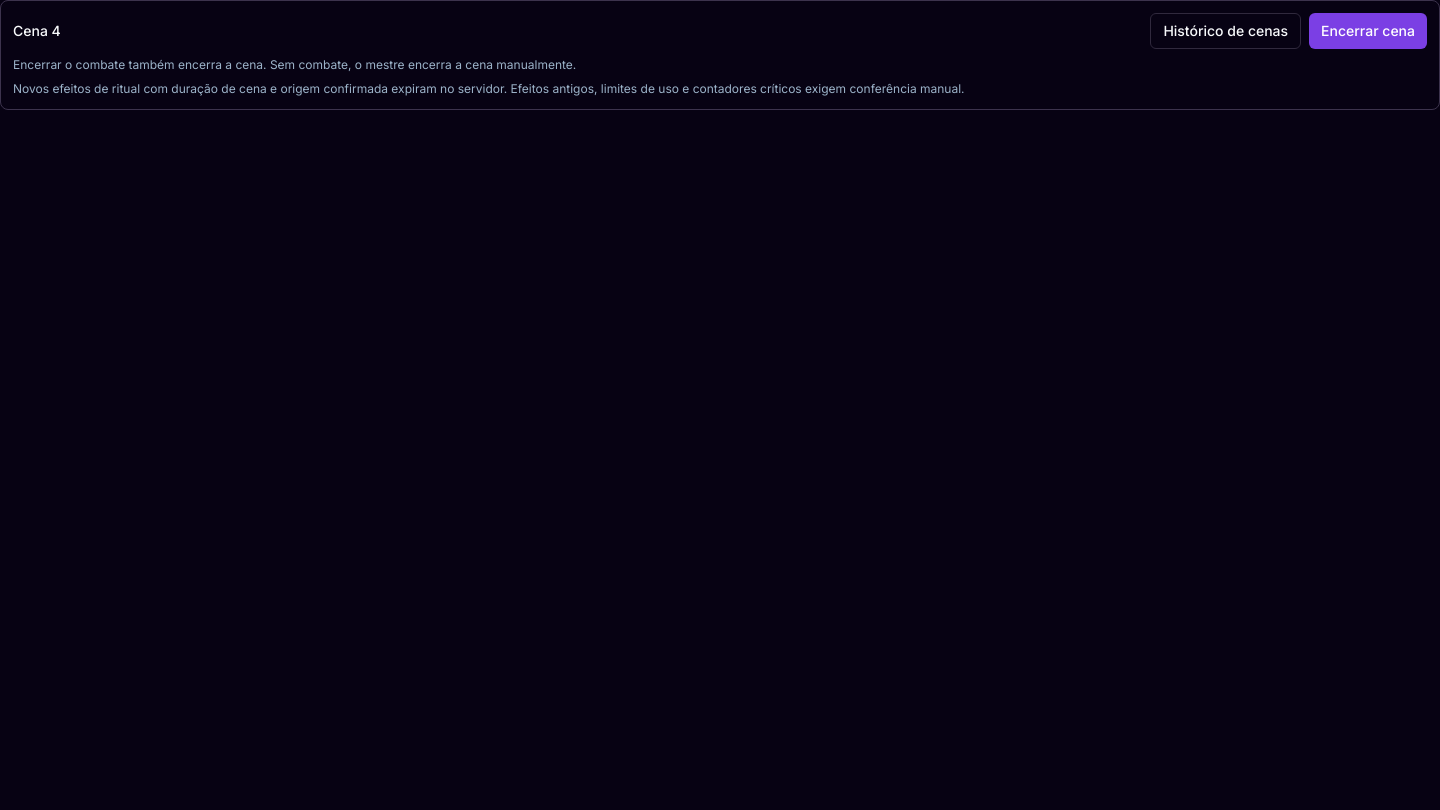
Scenario: Cena, avisos e histórico visíveis › confirmação sem combate envia false e só fecha após confirmação do servidor
Later steps or results of the test are not shown.
Click the button "Encerrar cena": (1368, 31) [1309, 13, 1427, 49]
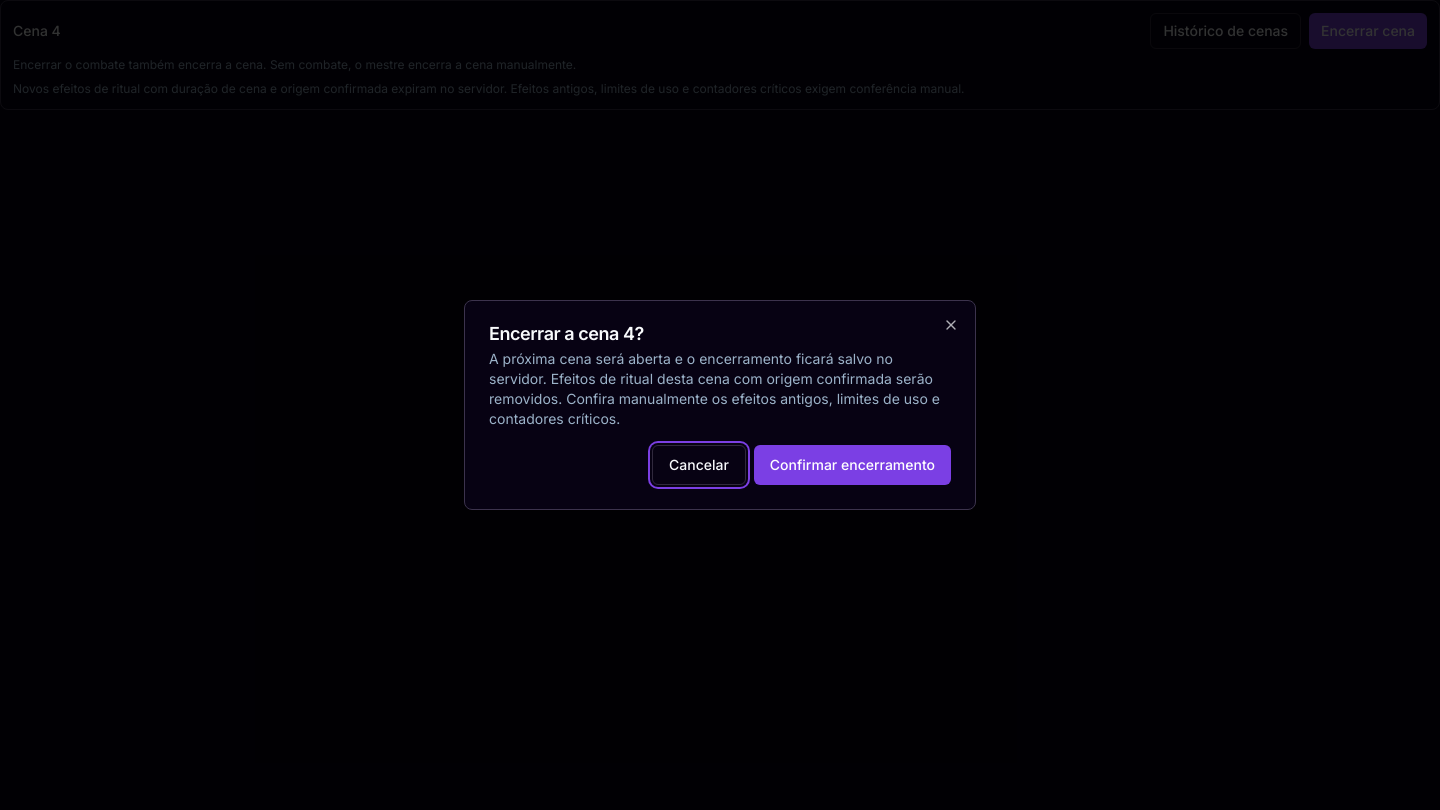
Click the button "Confirmar encerramento": (852, 465) [754, 445, 951, 485]
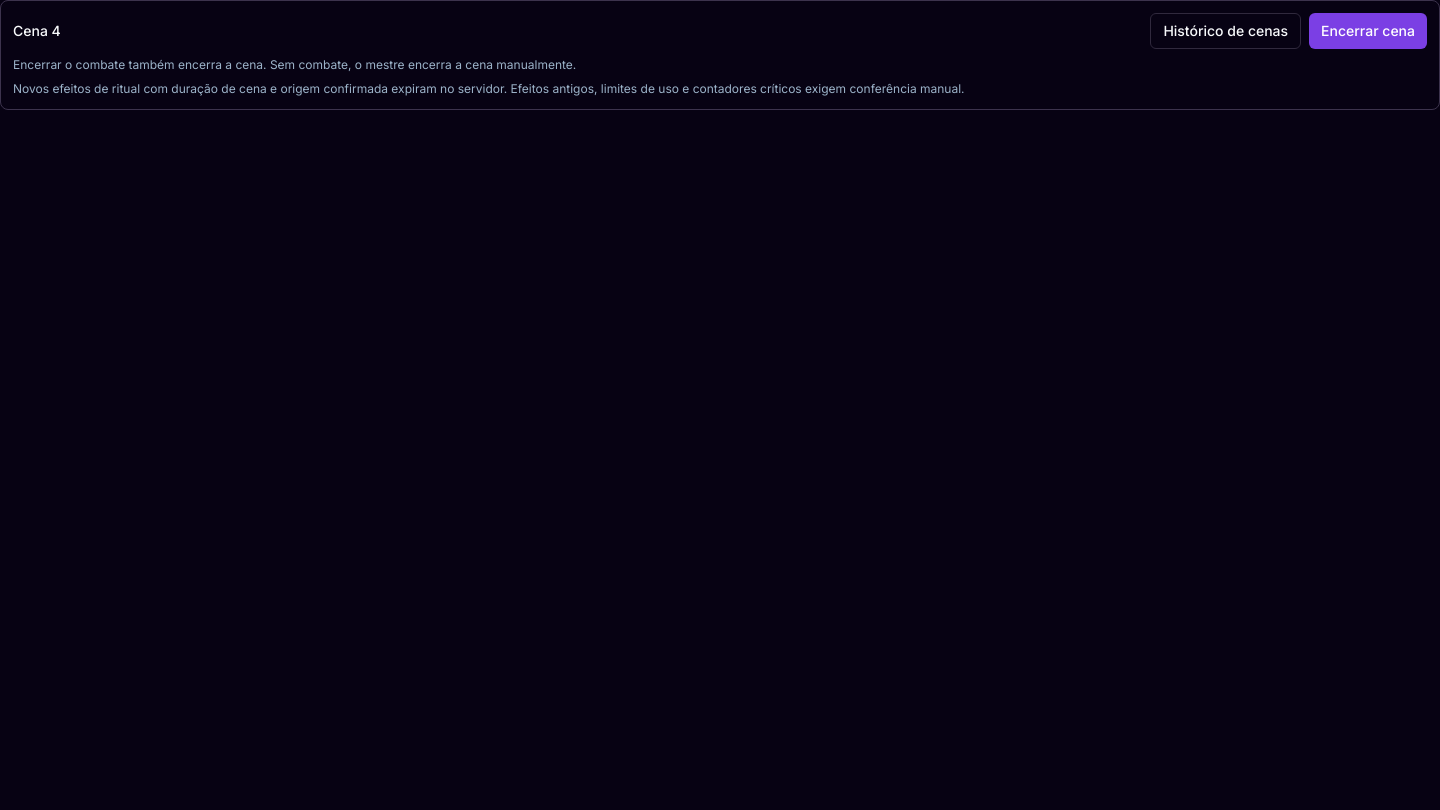
Expected: the dialog is gone
